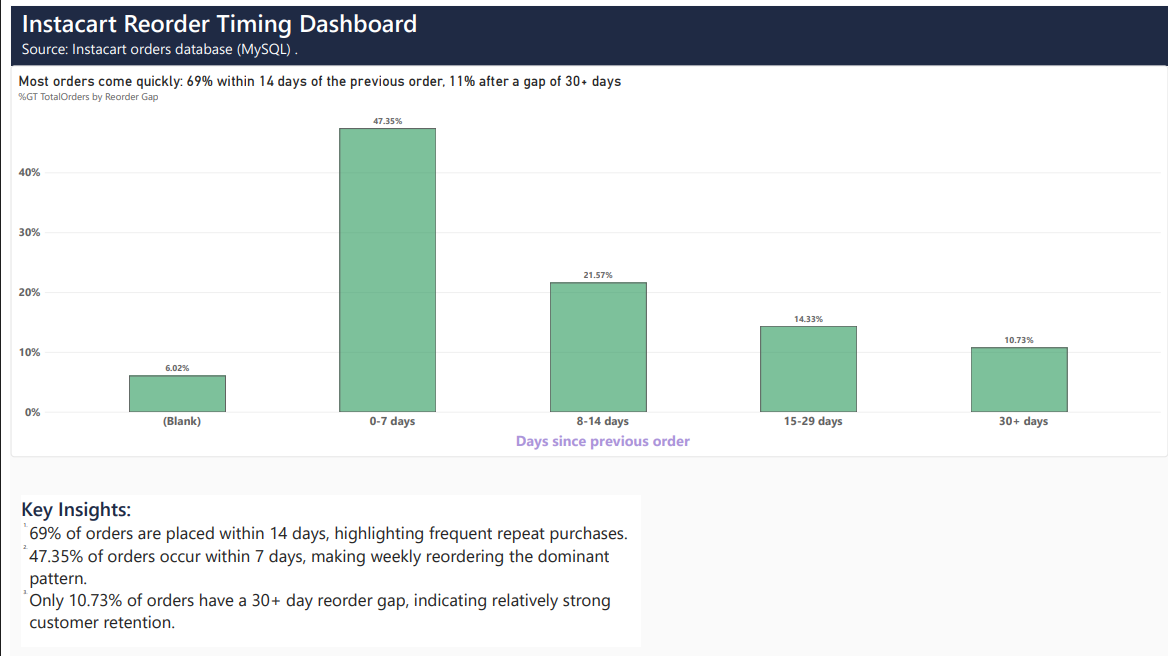

This screenshot's page, from the dashboard's own definition file:
{"tool":"powerbi","page":{"name":"Reorder TIming","canvas":[2560,1440],"ordinal":3},"visuals":[{"type":"shape","box":[0,0,2560.9,131],"z":4000},{"type":"textbox","box":[24,0,1008,72],"z":5000},{"type":"textbox","box":[24,72,2500,75],"z":6000},{"type":"clusteredColumnChart","title":"Most orders come quickly: 69% within 14 days of the previous order, 11% after a gap of 30+ days","fields":{"Category":["Orders.Reorder Gap"],"Y":["Orders.TotalOrders"]},"box":[0,132.2,2560.5,863.7],"z":7000},{"type":"textbox","box":[23.3,1081.4,1369.8,334.9],"z":8000}]}

Visuals, with their boxes in screenshot pixels (x1, y1, x2, y2), scaled from the page's 2560x1440 canvas onto the 1172x656 screenshot:
shape: x1=0 y1=0 x2=1171 y2=60
textbox: x1=11 y1=0 x2=472 y2=33
textbox: x1=11 y1=33 x2=1156 y2=67
"Most orders come quickly: 69% within 14 days of the previous order, 11% after a gap of 30+ days" clusteredColumnChart: x1=0 y1=60 x2=1171 y2=454
textbox: x1=11 y1=493 x2=638 y2=645
